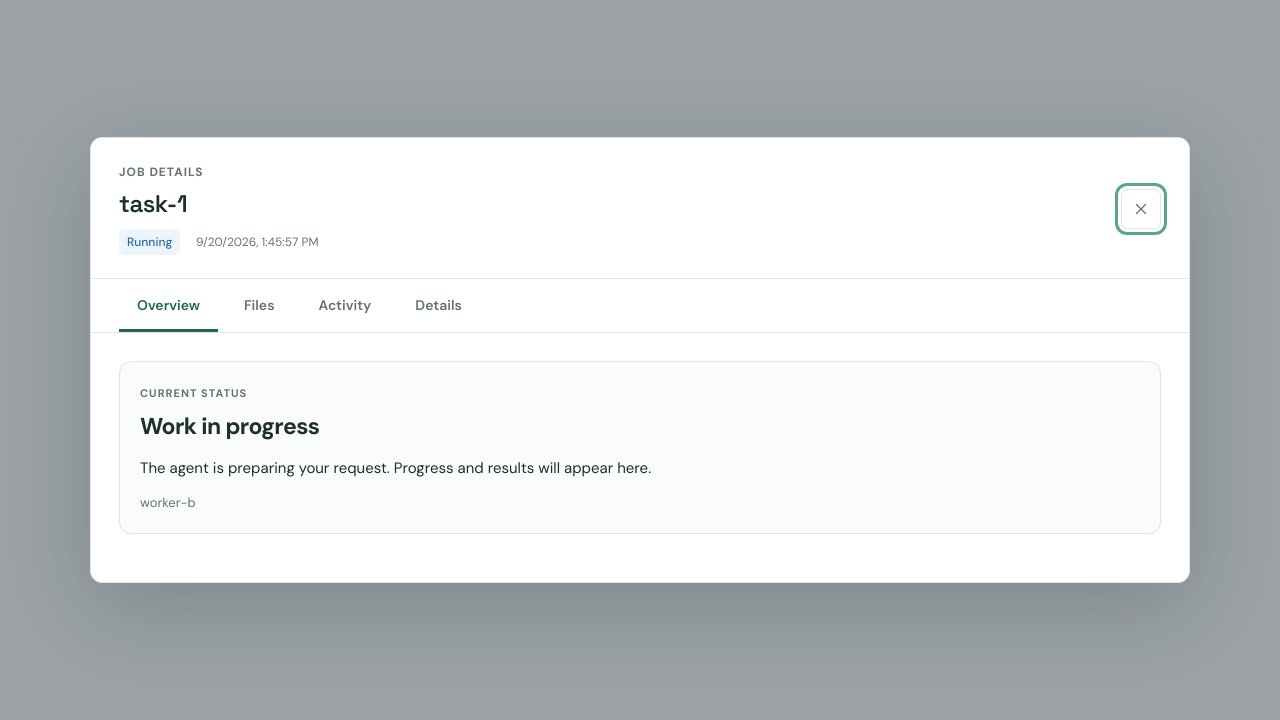
Test: resumes logs after a failed task is retried on another worker, preserving earlier attempts
Click the button "Activity": [345, 306] box [300,279,389,332]
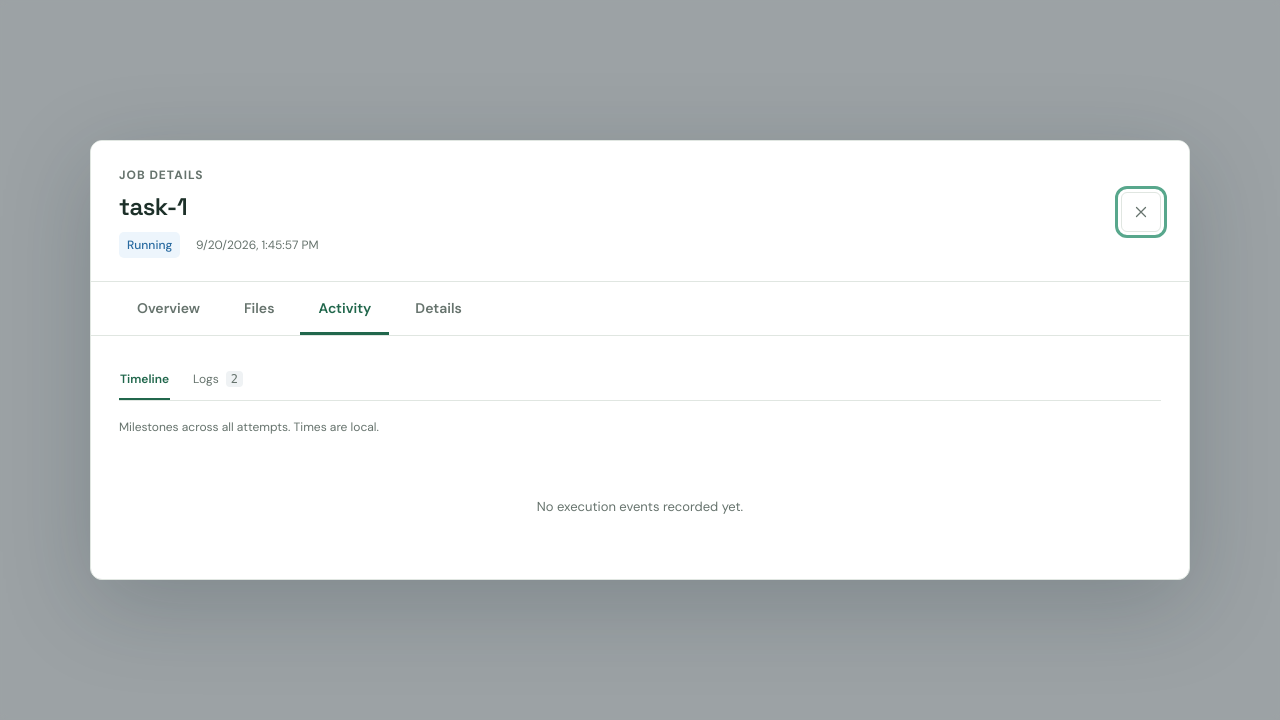
Click the tab "Logs2": [218, 380] box [192,360,244,400]
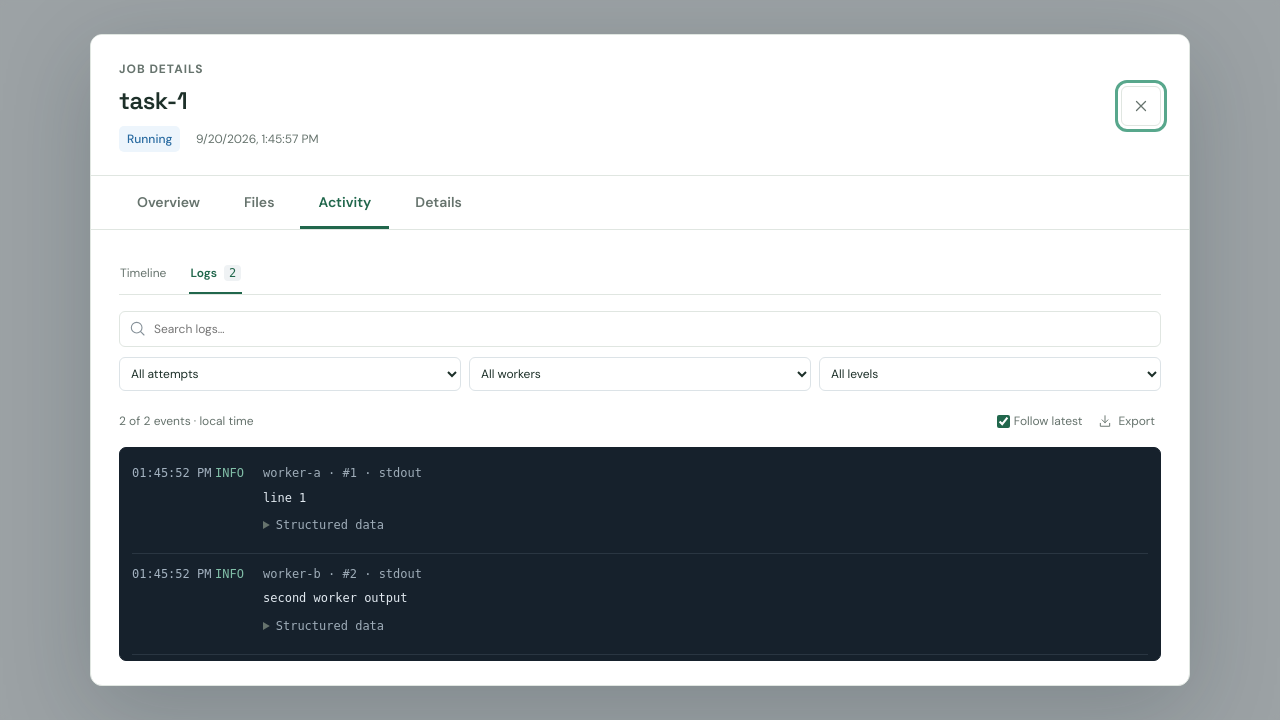
Now the text "line 1" is shown, box [263,491,306,505]
Now the text "second worker output" is shown, box [263,591,408,605]
Select "worker-b" in the dropdown named "Filter by worker": [640, 374] box [469,357,811,391]
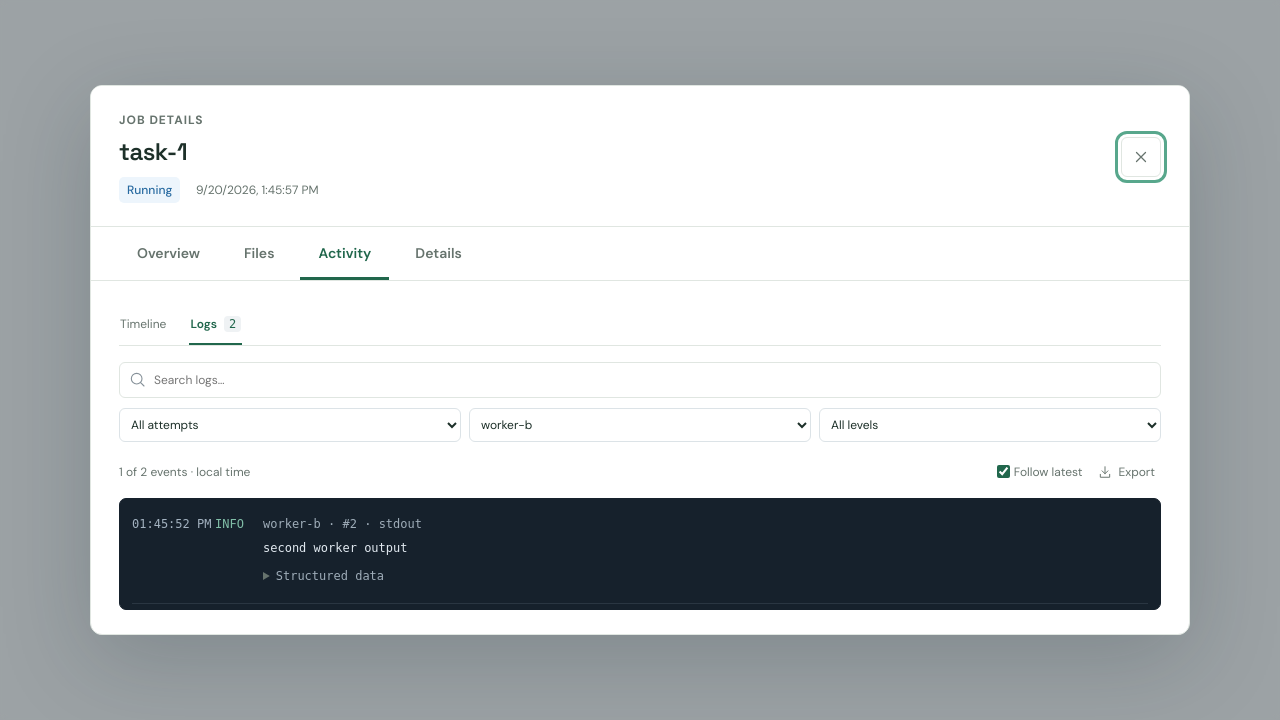
Now the text "second worker output" is shown, box [263,541,408,555]
Now the text "line 1" is gone
In the field named "Search execution logs": [652, 380] box [154,363,1150,397], type "does not exist"
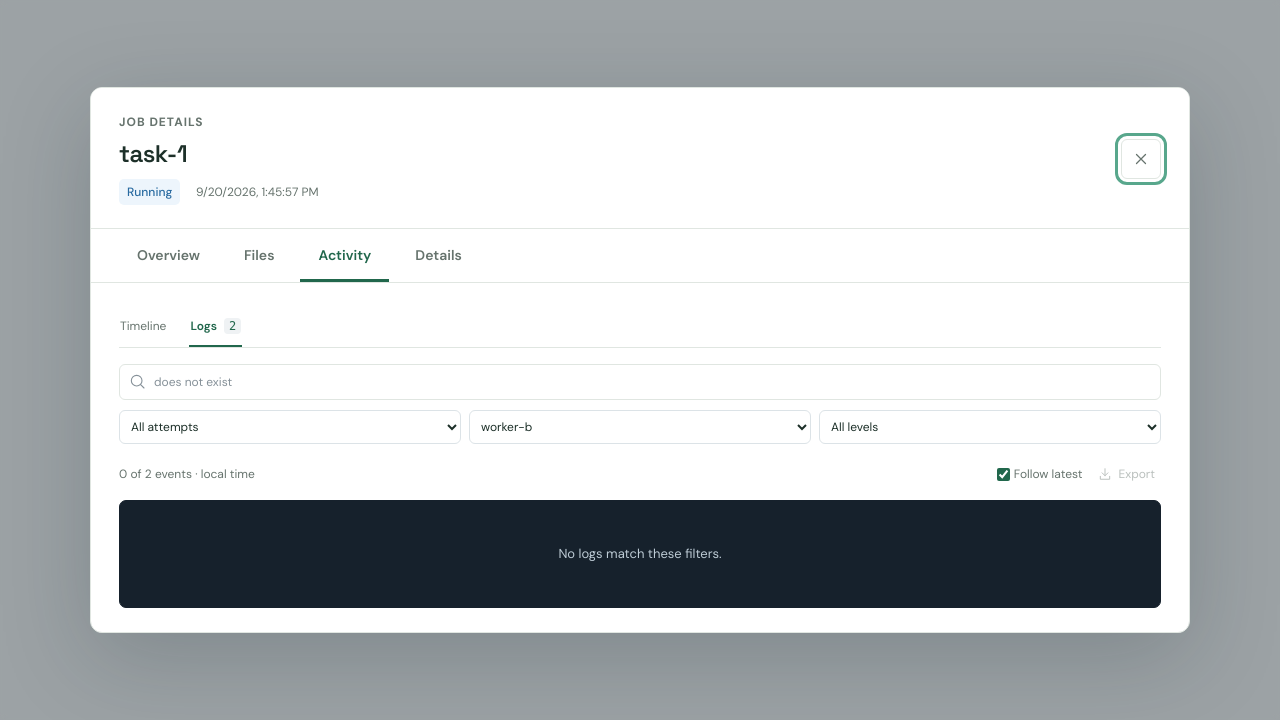
Now the text "No logs match these filters." is shown, box [558,545,722,562]
